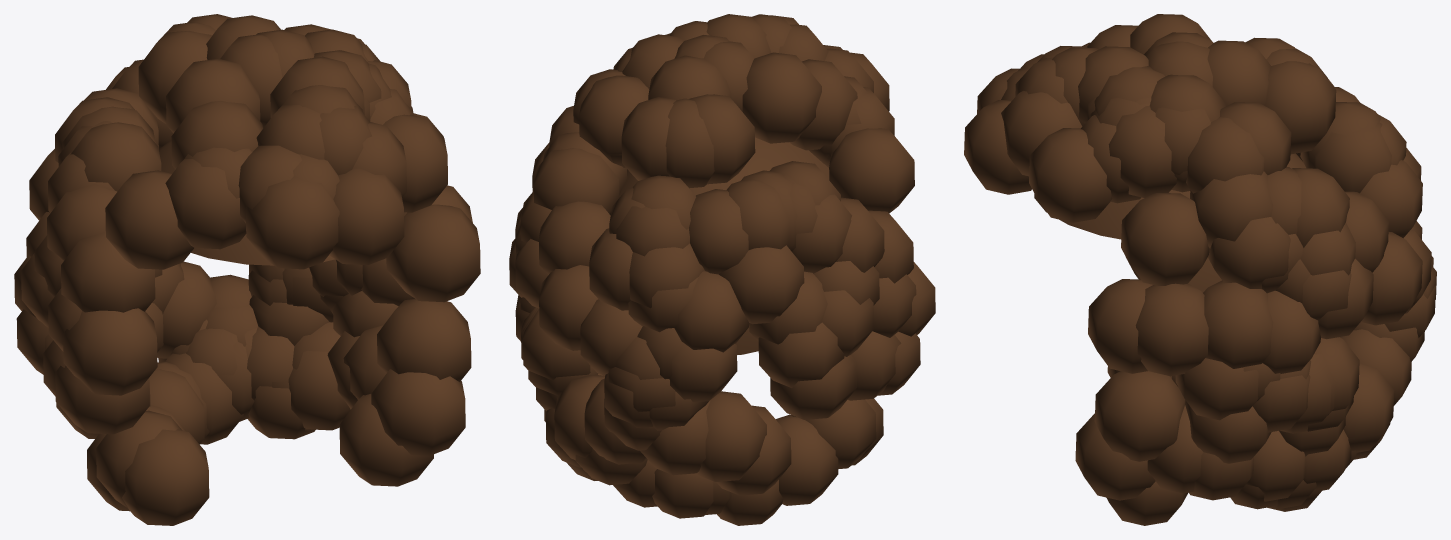
File: afro_m.glb
The picture shows the model from 3 angles, left to right: view 1: azimuth 30°, elevation 25°; view 2: azimuth 150°, elevation 25°; view 3: azimuth 270°, elevation 25°; orthographic projection. The views are drawn at different scales.
Visible parts, largest first — view 1: afro_m; view 2: afro_m; view 3: afro_m.
Boxes of the visible parts, <box> form: afro_m: <box>14,14,480,525</box>; afro_m: <box>509,14,935,525</box>; afro_m: <box>964,14,1436,525</box>.
Bounding box in the file's own units: 0.2945 × 0.3294 × 0.3102.
